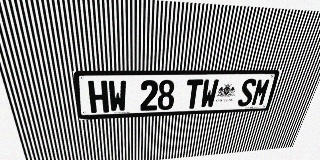2: (140, 80, 158, 111)
8: (157, 80, 176, 110)
H: (88, 81, 109, 113)
M: (250, 78, 272, 106)
S: (237, 78, 257, 107)
T: (184, 79, 203, 109)
W: (108, 80, 127, 112), (200, 79, 219, 108)
